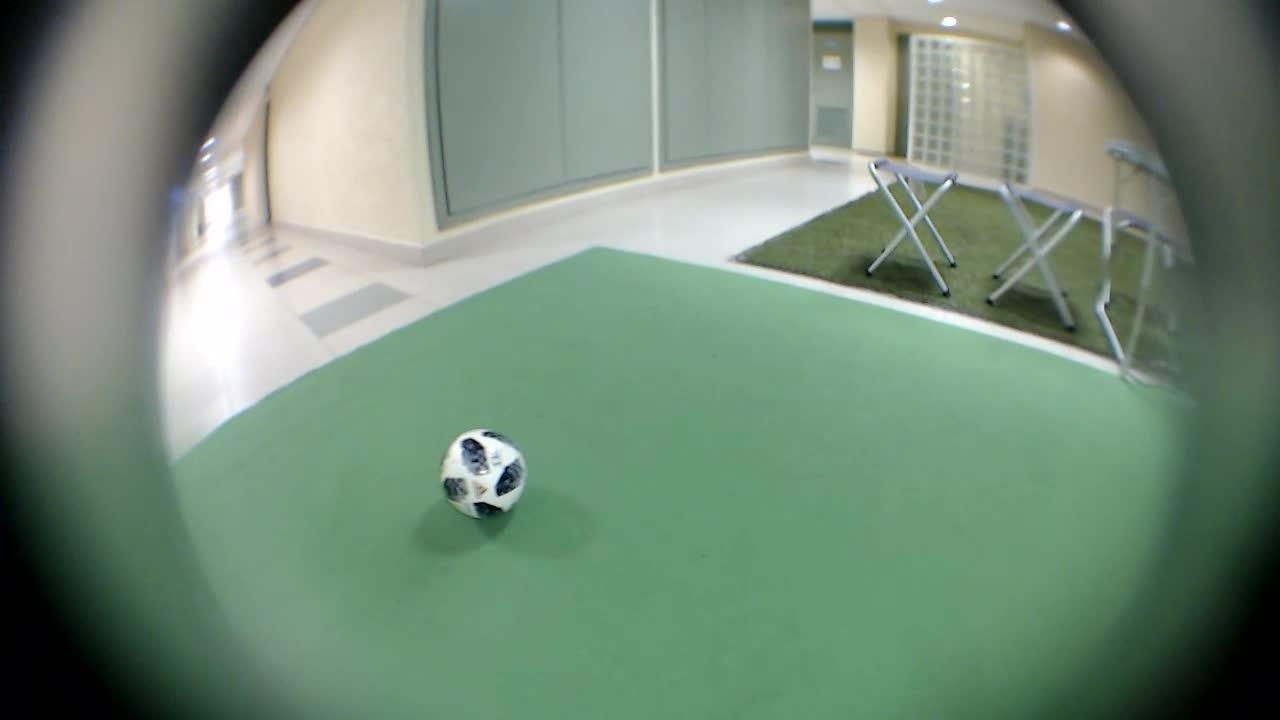ball: (424, 412, 547, 529)
